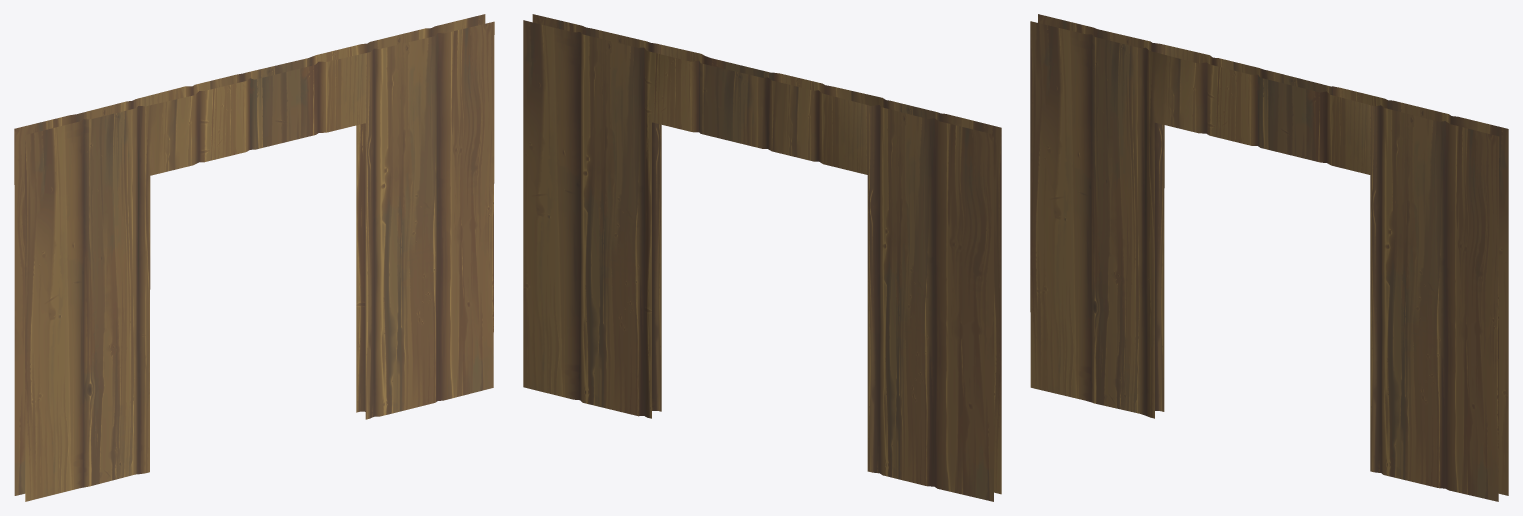
File: SM_MOD_wall_door_planks_vert_town.fbx
The picture shows the model from 3 angles, left to right: view 1: azimuth 30°, elevation 25°; view 2: azimuth 150°, elevation 25°; view 3: azimuth 330°, elevation 25°; orthographic projection.
Visible parts, largest first — view 1: SM_MOD_wall_door_planks_vert_town; view 2: SM_MOD_wall_door_planks_vert_town; view 3: SM_MOD_wall_door_planks_vert_town.
Boxes of the visible parts, bbox=[...] form: SM_MOD_wall_door_planks_vert_town: bbox=[14, 14, 494, 501]; SM_MOD_wall_door_planks_vert_town: bbox=[523, 14, 1001, 501]; SM_MOD_wall_door_planks_vert_town: bbox=[1030, 14, 1508, 501].
Bounding box in the file's own units: 378 × 283 × 15.12.
